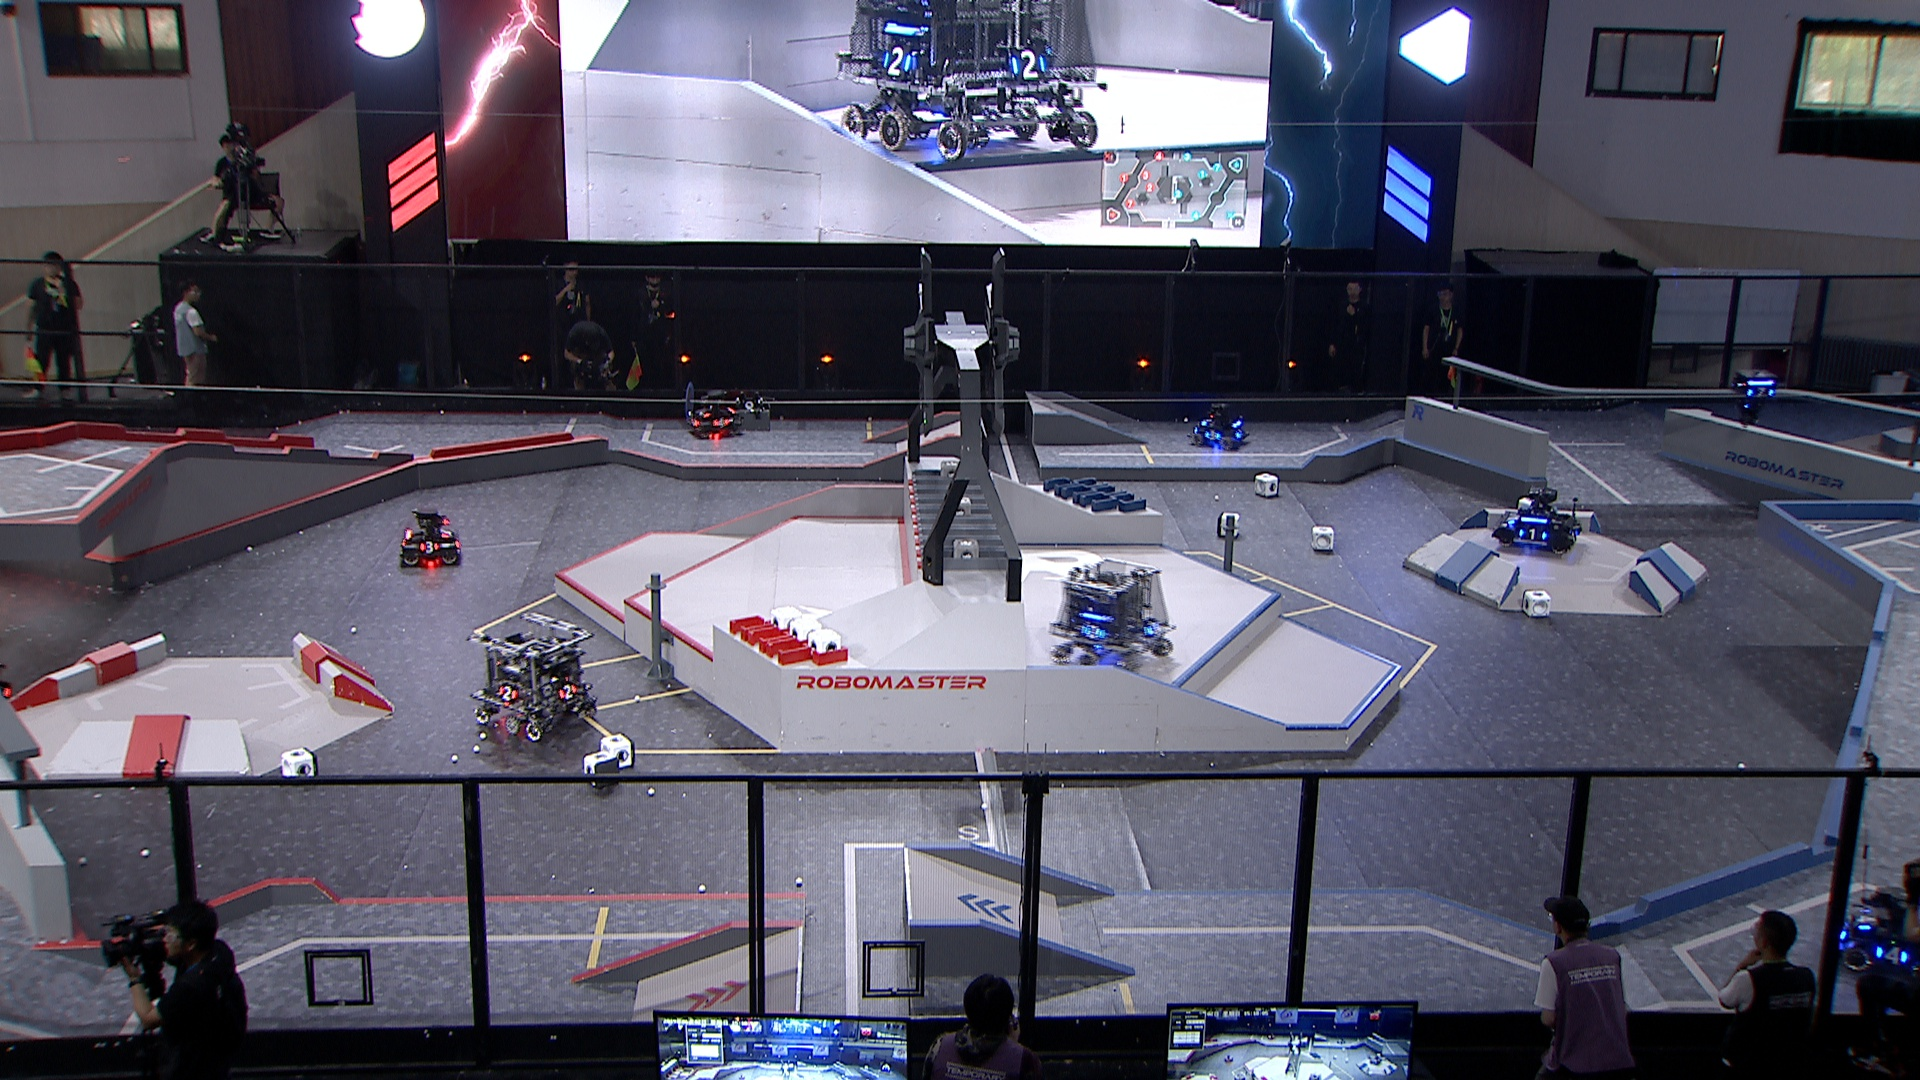armor: (1874, 945, 1911, 964), (1854, 909, 1875, 934), (1516, 527, 1548, 543), (1077, 622, 1106, 640), (498, 683, 518, 703), (1141, 618, 1163, 636), (556, 684, 578, 702), (1745, 386, 1775, 398), (692, 405, 713, 419), (1505, 510, 1522, 526), (1203, 427, 1221, 442), (418, 541, 438, 553), (436, 527, 454, 541), (711, 417, 731, 427), (1567, 527, 1581, 541), (1234, 429, 1247, 440)
car: (463, 611, 596, 746), (1048, 556, 1178, 676), (1833, 882, 1920, 984), (1486, 473, 1585, 556), (396, 501, 462, 564), (1187, 400, 1250, 450), (683, 386, 742, 438)
watcher: (1730, 367, 1782, 425)
